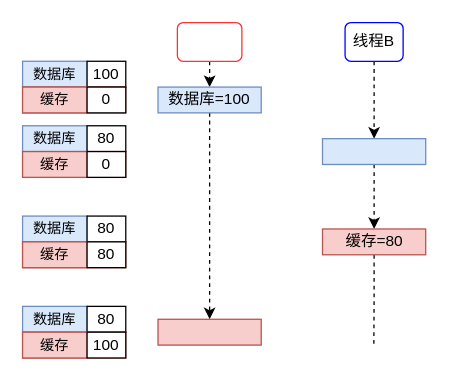
Image size: 449x381. Some labels were removed from this diagram. Each missing label, with the centre of its shape:
数据库=80: (373,150)
线程A: (209,41)
缓存=100: (209,331)
